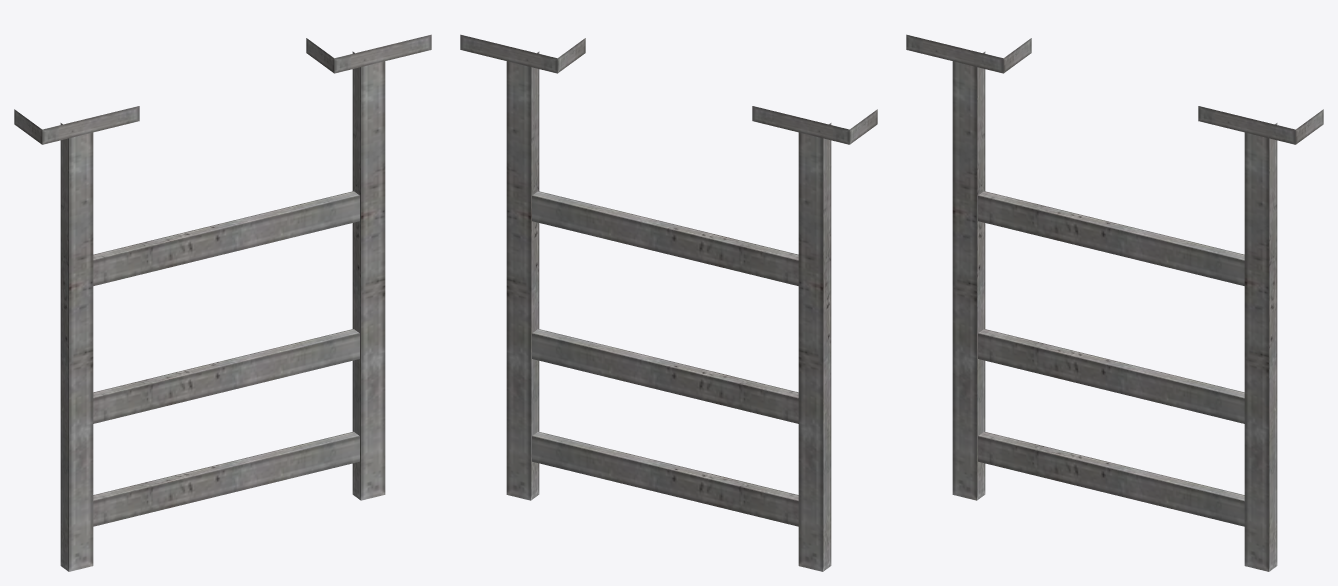
File: rack_hanging_long_b.glb
The picture shows the model from 3 angles, left to right: view 1: azimuth 30°, elevation 25°; view 2: azimuth 150°, elevation 25°; view 3: azimuth 330°, elevation 25°; orthographic projection.
Parts seen in each view (by area): view 1: rack_hanging_long_b; view 2: rack_hanging_long_b; view 3: rack_hanging_long_b.
Part boxes in pixels (box(x1,y1,x2,y2)): rack_hanging_long_b: box(14, 34, 431, 571); rack_hanging_long_b: box(460, 34, 877, 571); rack_hanging_long_b: box(906, 34, 1323, 571).
Size of the model in its own units: 1 by 1.12 by 0.125.
Materials: 1 (1 with a texture image).
